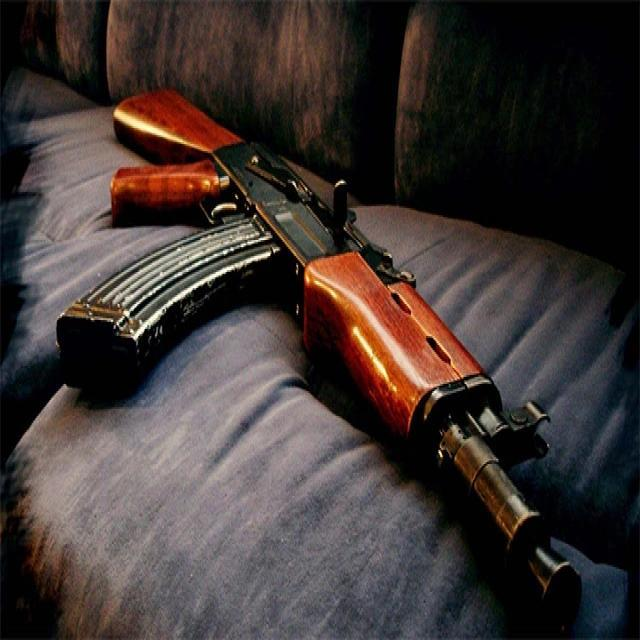weapon: (56, 83, 584, 638)
